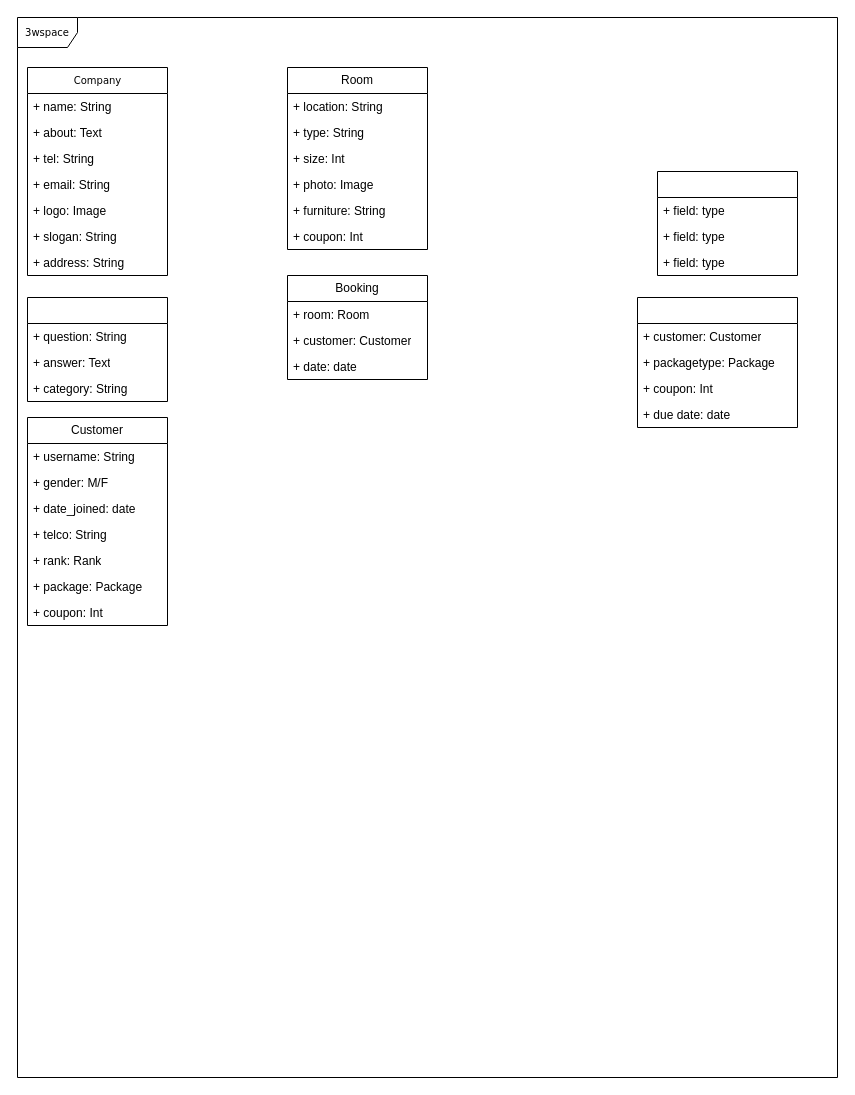
Some shapes in this 855 by 1095 pixel diagram are drawn without their labels. Each missing label, with the box of its shape:
FAQ: (26, 296, 168, 402)
Package: (656, 170, 798, 276)
PackageDetails: (636, 296, 798, 428)
